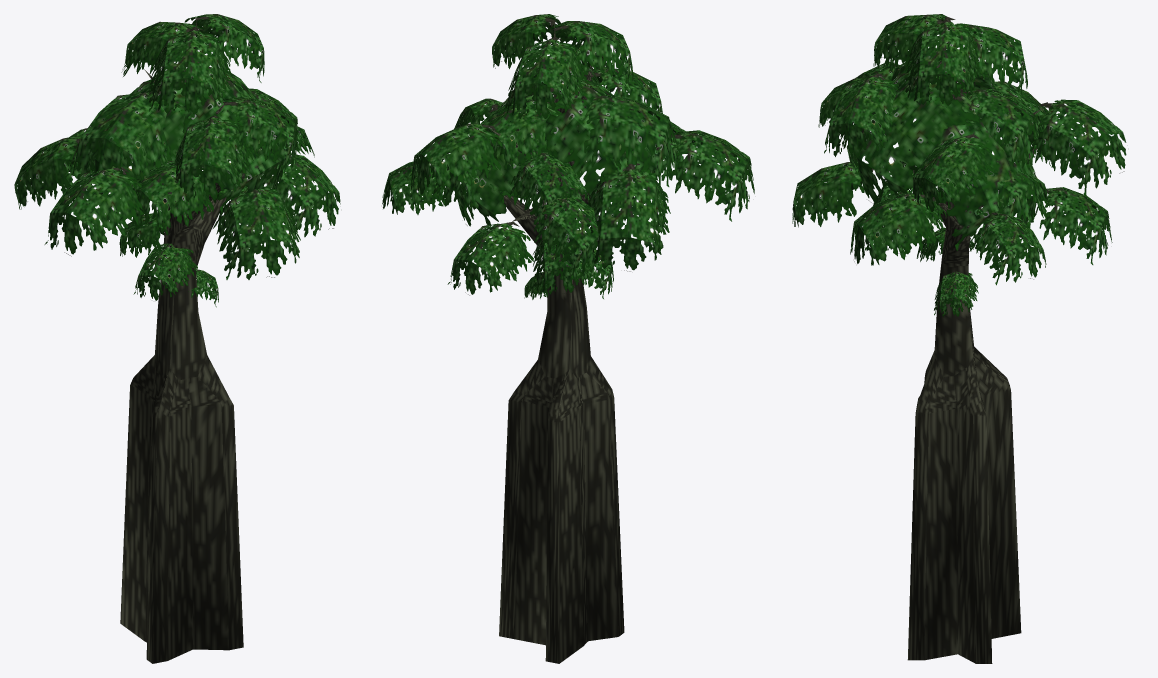
Rendered from oak_tree_1_30.dae.
The picture shows the model from 3 angles, left to right: view 1: azimuth 30°, elevation 25°; view 2: azimuth 150°, elevation 25°; view 3: azimuth 270°, elevation 25°; orthographic projection. The views are drawn at different scales.
Parts seen in each view (by area): view 1: Plane.014; view 2: Plane.014; view 3: Plane.014.
Part boxes in pixels (box(x1,y1,x2,y2)): Plane.014: box(14, 14, 340, 663); Plane.014: box(382, 14, 754, 663); Plane.014: box(792, 14, 1126, 663).
Bounding box in the file's own units: 0.5248 × 0.4902 × 0.9584.
Materials: 1 (1 with a texture image).
